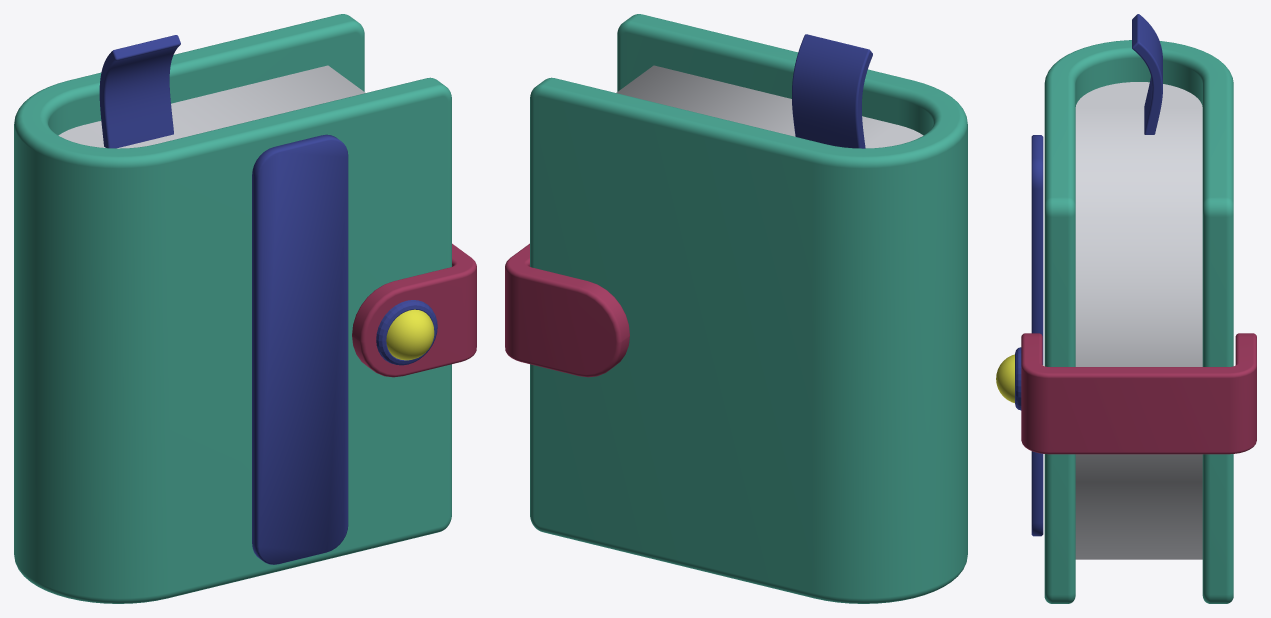
File: book.gltf
3 views of the same model, side by side, from view 1: azimuth 30°, elevation 25°; view 2: azimuth 150°, elevation 25°; view 3: azimuth 270°, elevation 25° (orthographic). The views are drawn at different scales.
Parts seen in each view (by area): view 1: Cube.001, Cube.002, Plane, Cube, NurbsPath, Sphere, Sphere.001; view 2: Cube.001, Plane, NurbsPath, Cube; view 3: Cube, Cube.001, Plane, Cube.002, NurbsPath, Sphere, Sphere.001.
Boxes of the visible parts, box(x1,y1,x2,y2) form: Cube.001: box(14, 14, 451, 603); Cube.002: box(252, 134, 348, 564); Plane: box(352, 243, 476, 377); Cube: box(58, 65, 365, 148); NurbsPath: box(99, 35, 180, 148); Sphere: box(386, 309, 434, 360); Sphere.001: box(376, 300, 437, 365); Cube.001: box(530, 14, 967, 603); Plane: box(505, 243, 629, 377); NurbsPath: box(792, 34, 872, 148); Cube: box(616, 65, 923, 148); Cube: box(1075, 82, 1202, 559); Cube.001: box(1044, 40, 1233, 603); Plane: box(1021, 333, 1256, 454); Cube.002: box(1031, 135, 1043, 536); NurbsPath: box(1132, 14, 1162, 134); Sphere: box(996, 354, 1042, 402); Sphere.001: box(1015, 347, 1021, 410).
Size of what is drawn, in the model's own units: 2.14 by 2.66 by 1.35.
